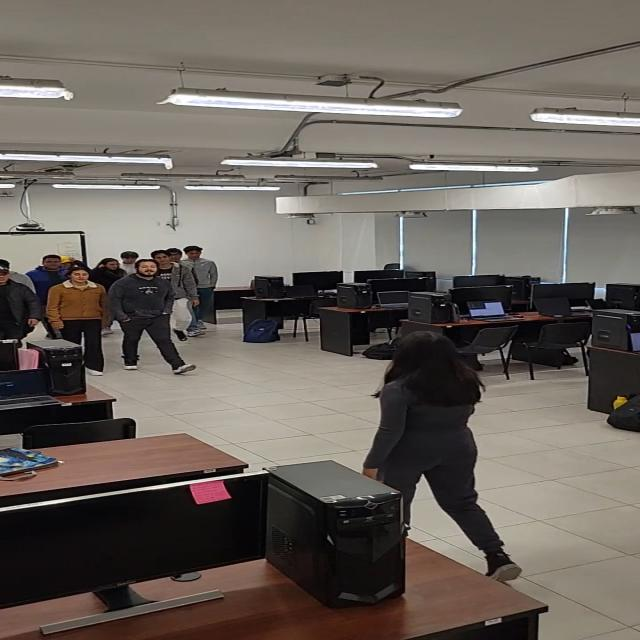Persona: (360, 330, 525, 581), (106, 257, 196, 374), (45, 267, 114, 379), (146, 250, 200, 344), (180, 247, 218, 331), (0, 264, 42, 338), (26, 255, 70, 293), (118, 248, 142, 272)
